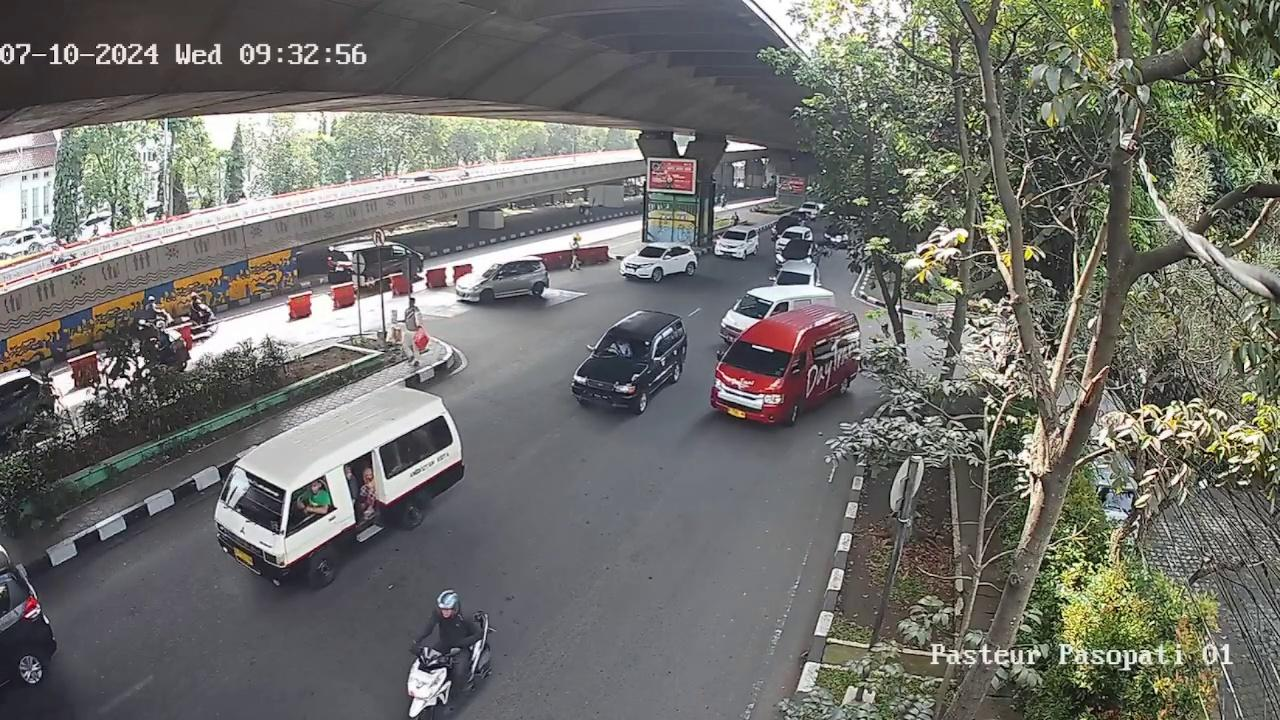pakai: (608, 339, 632, 355)
windshield: (217, 465, 286, 534), (722, 337, 792, 373), (595, 333, 650, 357), (734, 291, 775, 315)
